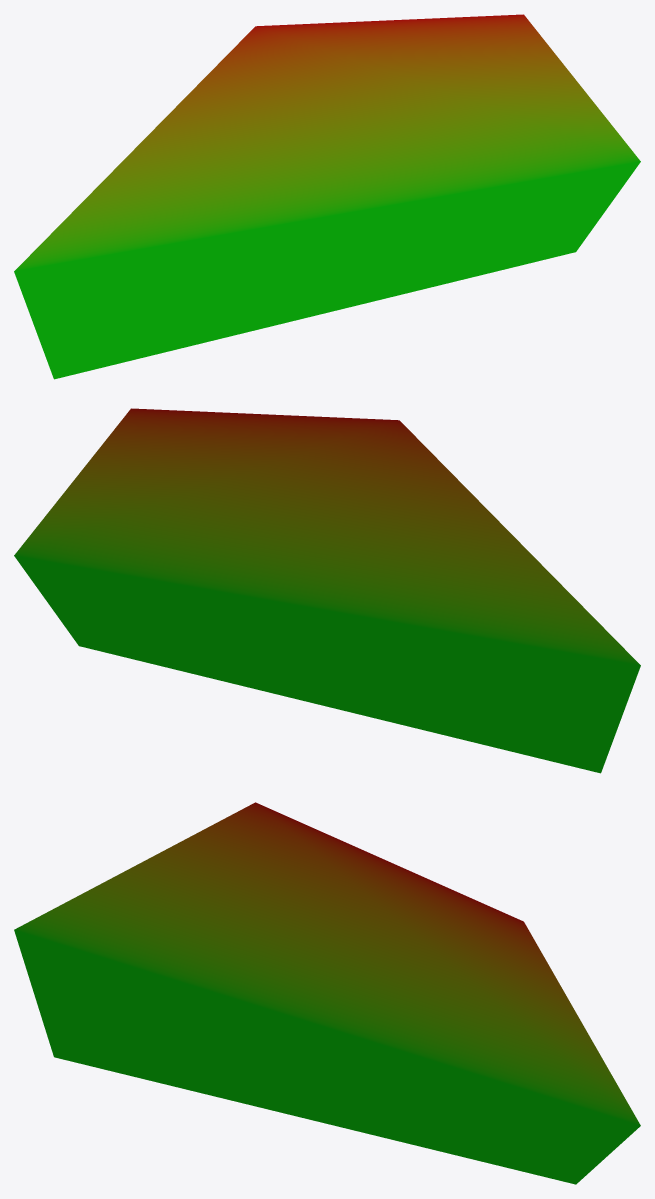
File: Fern_LOD3_Var2_rmAsg.fbx
3 views of the same model, one above another, from view 1: azimuth 30°, elevation 25°; view 2: azimuth 150°, elevation 25°; view 3: azimuth 330°, elevation 25° (orthographic).
Visible parts, largest first — view 1: _14e1_Var2_LOD3; view 2: _14e1_Var2_LOD3; view 3: _14e1_Var2_LOD3.
Part boxes in pixels (left/top/right/bottom): _14e1_Var2_LOD3: left=14, top=14, right=640, bottom=379; _14e1_Var2_LOD3: left=14, top=408, right=640, bottom=773; _14e1_Var2_LOD3: left=14, top=802, right=640, bottom=1184.
Bounding box in the file's own units: 184 × 85.42 × 1.34e-05.
